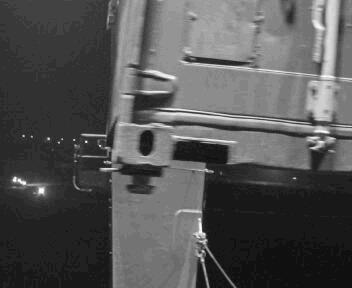twist_lock_1: (113, 162, 167, 202)
